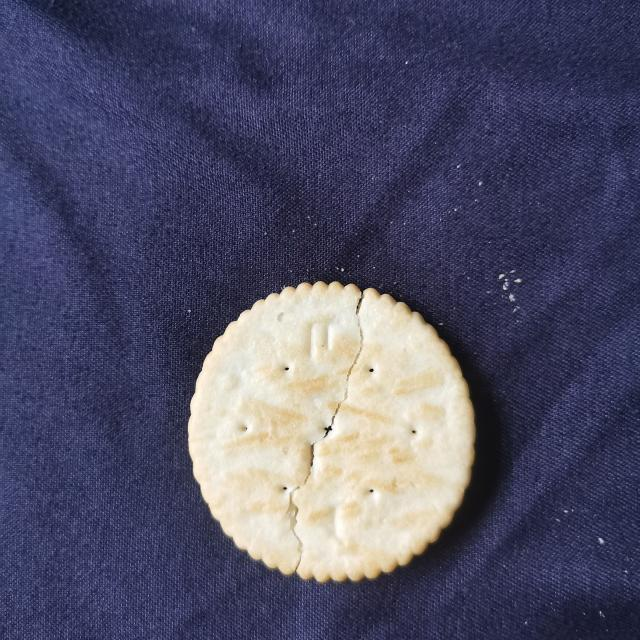Fracture: (273, 283, 383, 583)
